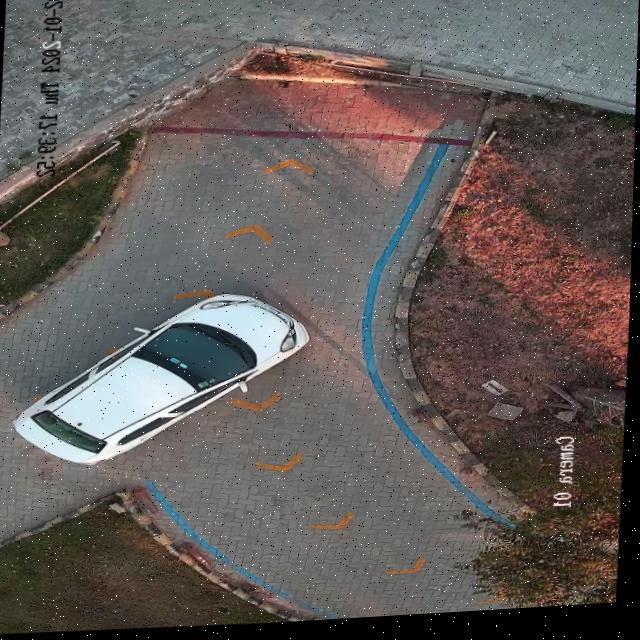car: (15, 296, 311, 465)
